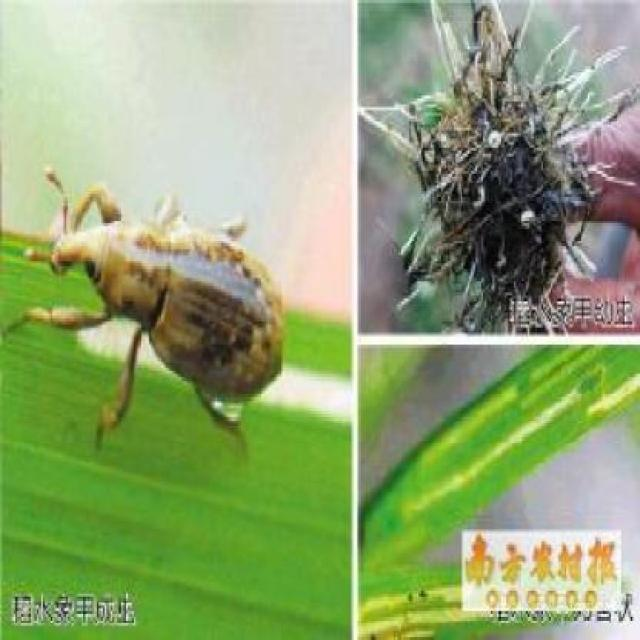rice-bug: (37, 184, 291, 450)
